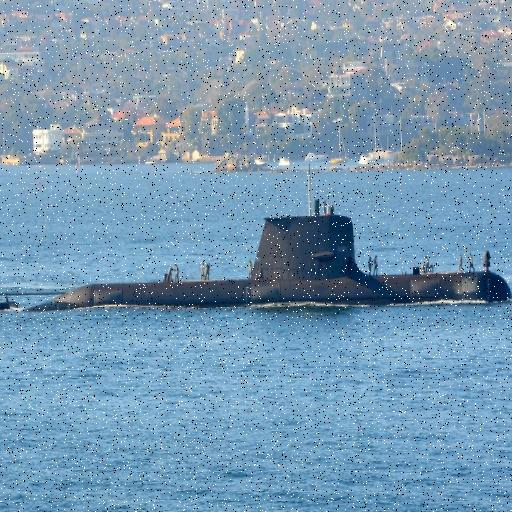submarine: (1, 214, 512, 312)
